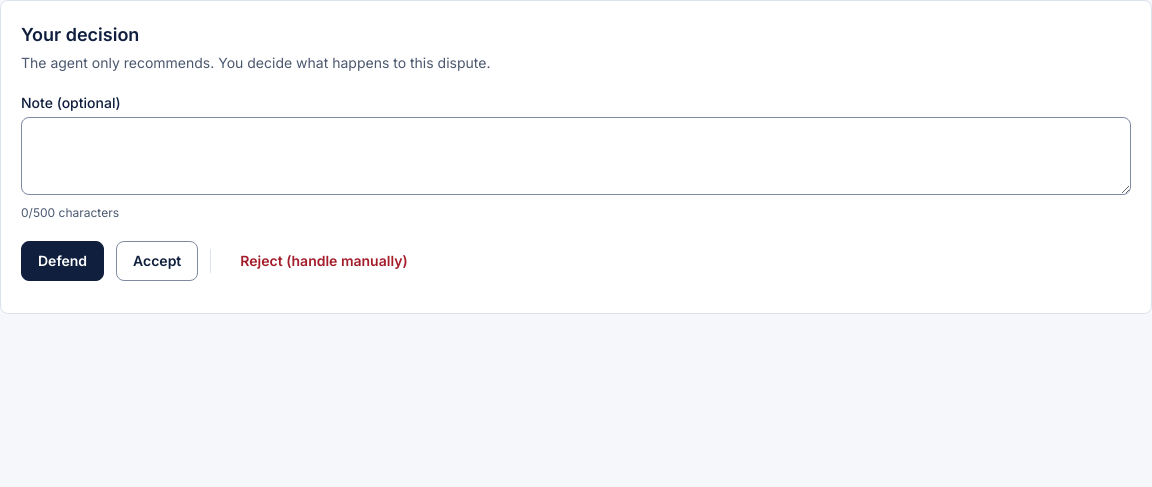
it: confirming Reject and Accept › only one confirmation panel is open at a time
The width and height of the screenshot is (1152, 487).
Click the button "Defend": (63, 261) [21,241,104,281]
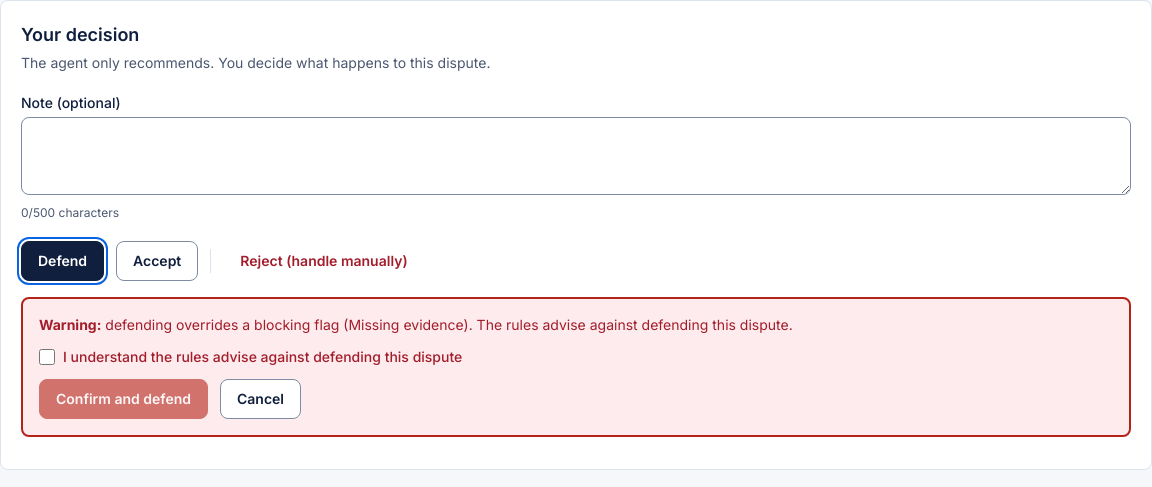
Click the button "Reject (handle manually)": (324, 261) [223,241,425,281]
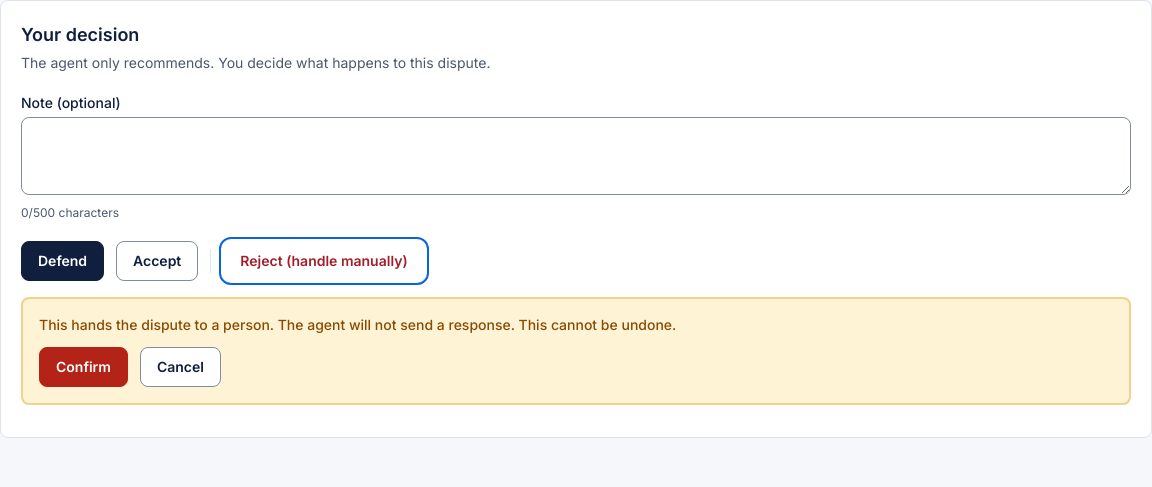
Expected: the number of buttons "Confirm" is 1, [39,347,128,387]
Expected: the text "defending overrides" is gone
Expected: the text "This hands the dispute to a person. The agent will not send a response. This cannot be undone." is shown, [39,316,676,333]
